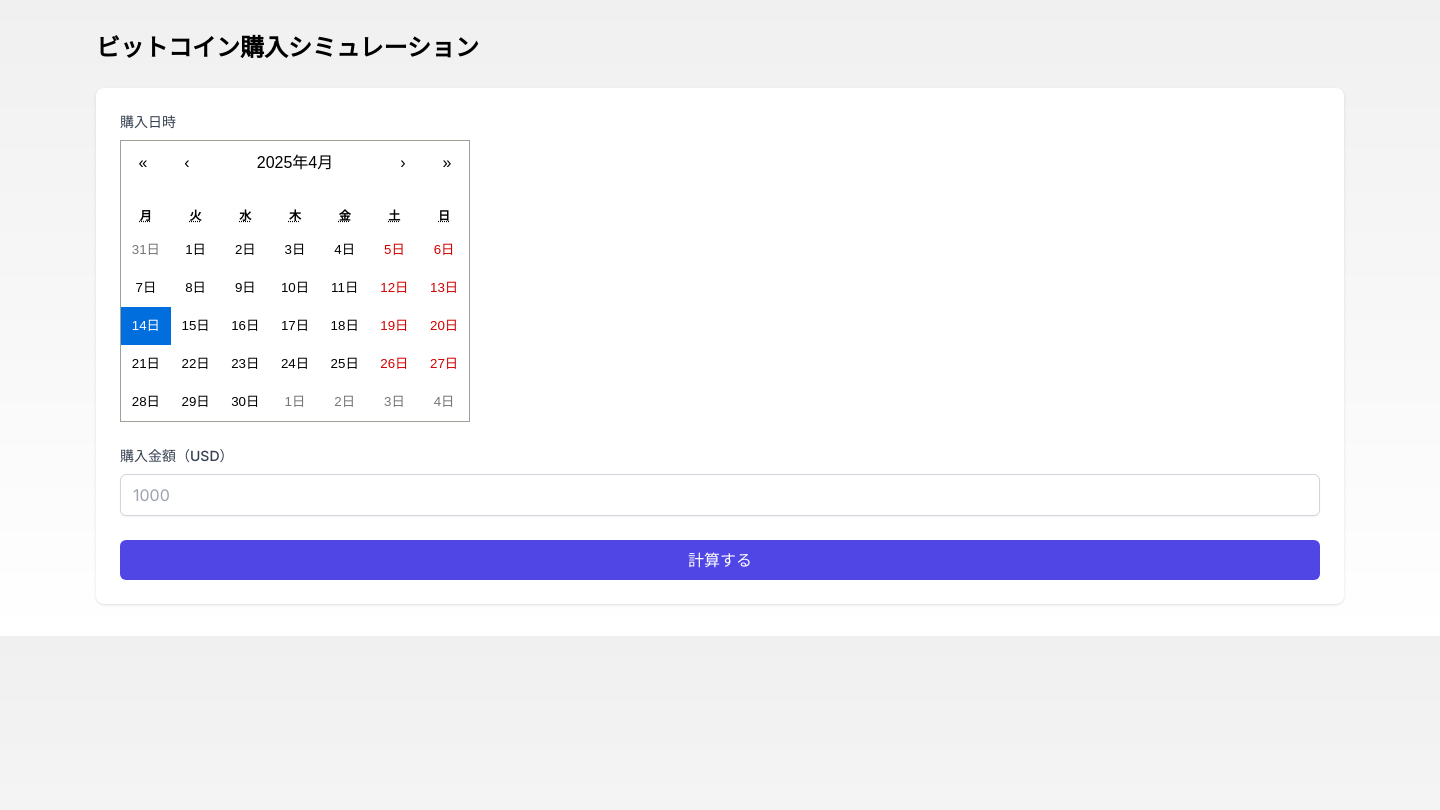
SimulatePage › should show error message when submitting without amount
Step 1. Click the button "計算する" → coordinates (720, 560), box [120,540,1320,580]
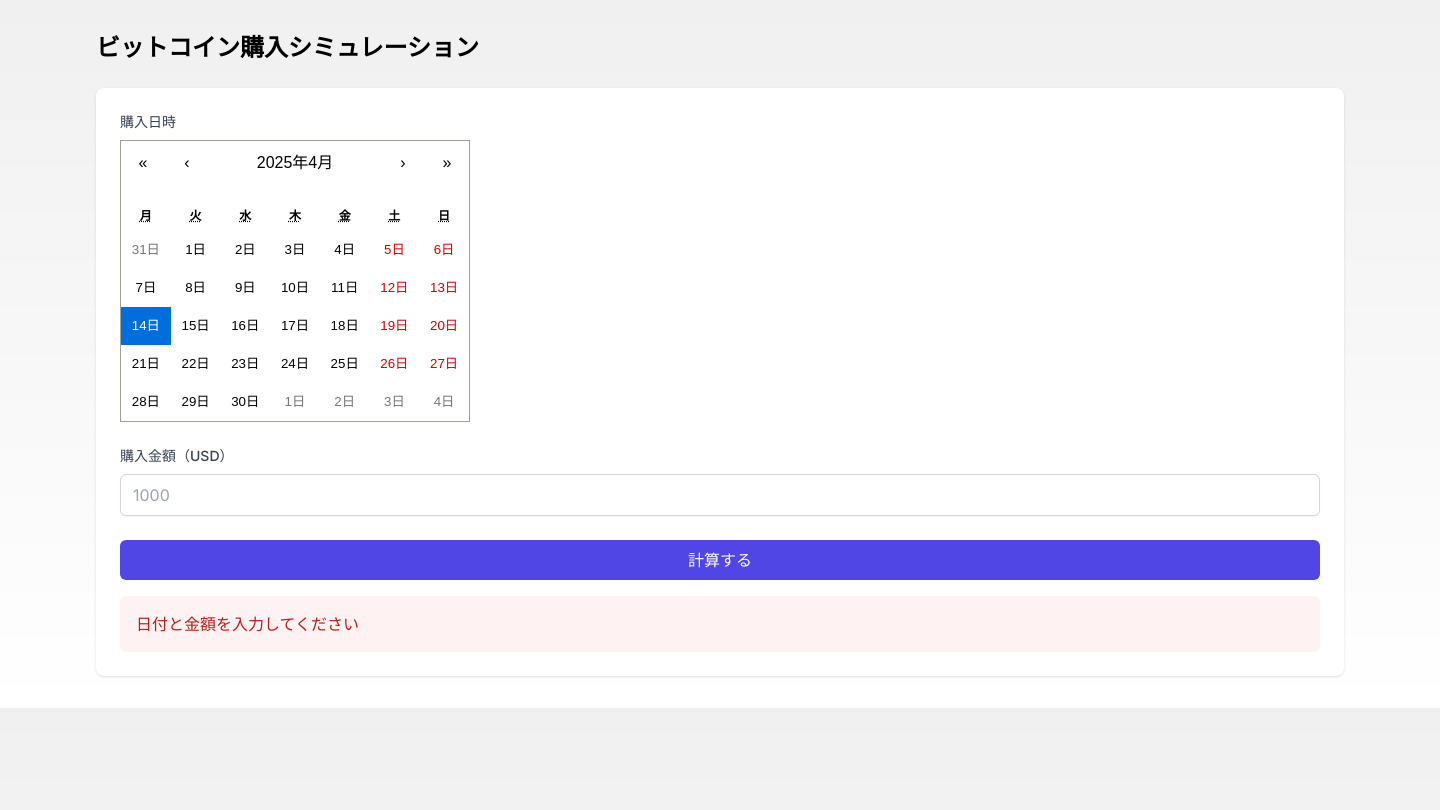
Now the text "日付と金額を入力してください" is shown, box [120,596,1320,652]
